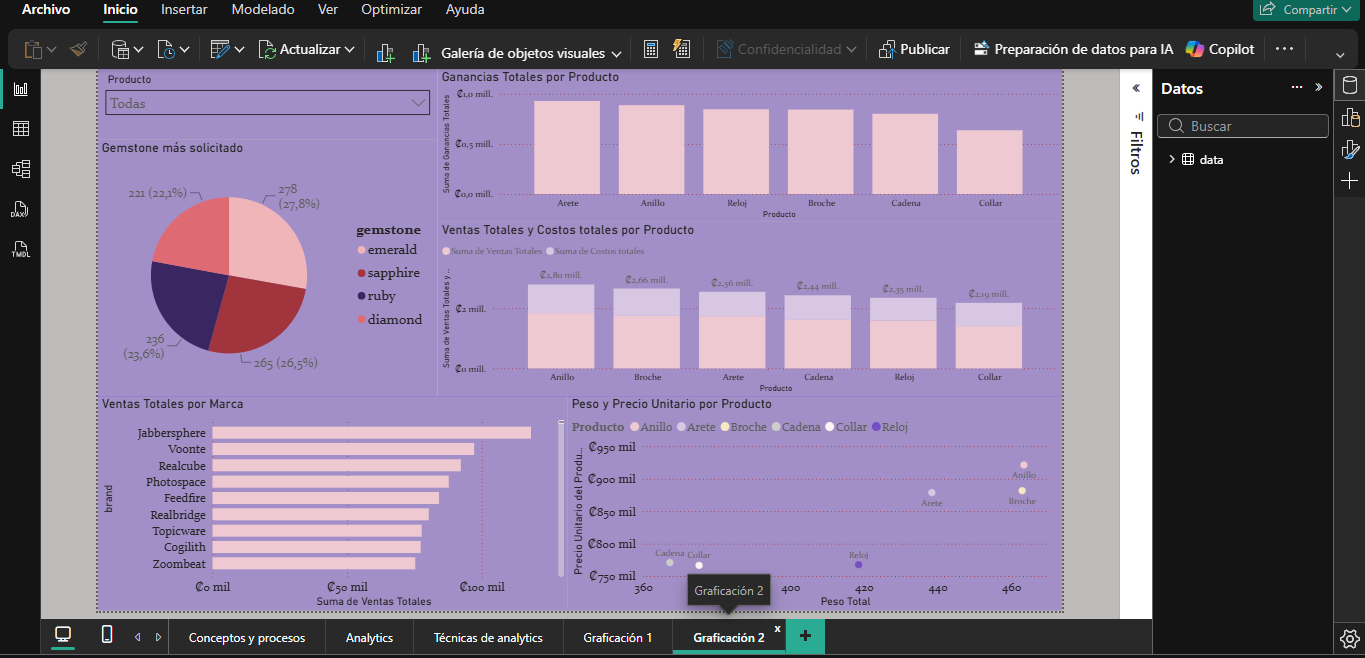

This screenshot's page, from the dashboard's own definition file:
{"tool":"powerbi","page":{"name":"Graficación 2","canvas":[1280,720],"ordinal":4},"visuals":[{"type":"pieChart","title":"Gemstone más solicitado","fields":{"Y":["CountNonNull(data.gemstone)"],"Category":["data.gemstone"]},"box":[0,94.1,451.1,340.6],"z":0},{"type":"clusteredColumnChart","title":"Ganancias Totales por Producto","fields":{"Category":["data.Producto"],"Y":["Sum(data.Ganancias Totales)"]},"box":[451.1,0,829,203.2],"z":1000},{"type":"columnChart","title":"Ventas Totales y Costos totales por Producto","fields":{"Category":["data.Producto"],"Y":["Sum(data.Ventas Totales)","Sum(data.Costos totales)"]},"box":[451.1,203.2,829,231.5],"z":2000},{"type":"clusteredBarChart","title":"Ventas Totales por Marca","fields":{"Y":["Sum(data.Ventas Totales)"],"Category":["data.brand"]},"box":[0,434.7,624.4,285.3],"z":3000},{"type":"slicer","fields":{"Values":["data.Producto"]},"box":[0,0,451.1,94.1],"z":4000},{"type":"scatterChart","title":"Peso y Precio Unitario por Producto","fields":{"X":["Sum(data.weight)"],"Y":["Sum(data.precio Unitario)"],"Series":["data.Producto"]},"box":[624.4,434.7,655.8,285.3],"z":5000}]}

Visuals, with their boxes on the page's 1280x720 design canvas (x1, y1, x2, y2). These are canvas units, not pixel positions in the 1365x658 screenshot, which may show the page scaled, cropped or inside an application window:
"Gemstone más solicitado" pieChart: crop(0, 94, 451, 435)
"Ganancias Totales por Producto" clusteredColumnChart: crop(451, 0, 1280, 203)
"Ventas Totales y Costos totales por Producto" columnChart: crop(451, 203, 1280, 435)
"Ventas Totales por Marca" clusteredBarChart: crop(0, 435, 624, 720)
slicer - data.Producto: crop(0, 0, 451, 94)
"Peso y Precio Unitario por Producto" scatterChart: crop(624, 435, 1280, 720)
